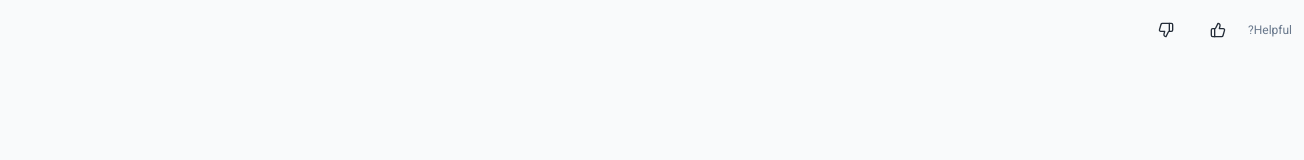
Test: OutputFeedback › shows negative feedback form when thumbs down is clicked
Click the button named "Negative feedback" at [1166, 30], box [1144,8,1188,52]
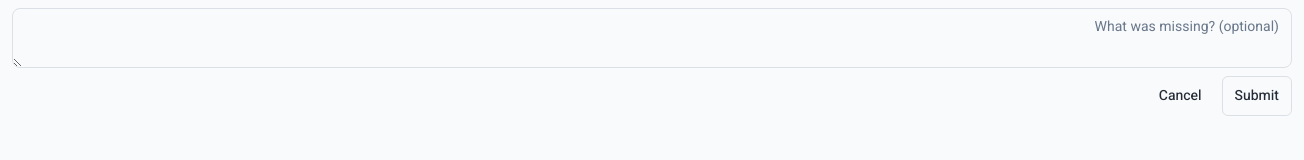
Check: the text box with placeholder "What was missing? (optional)" is shown, box [12,8,1292,68]
